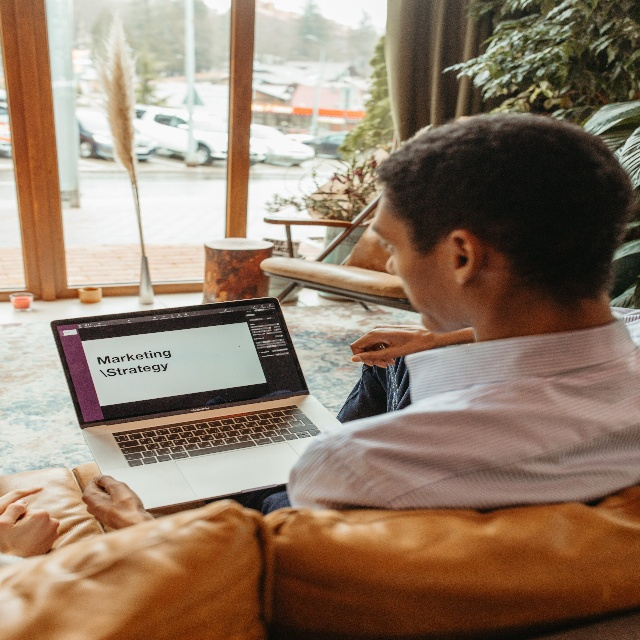Sin_guantes: (349, 323, 429, 369), (0, 499, 61, 559), (81, 473, 145, 530)
